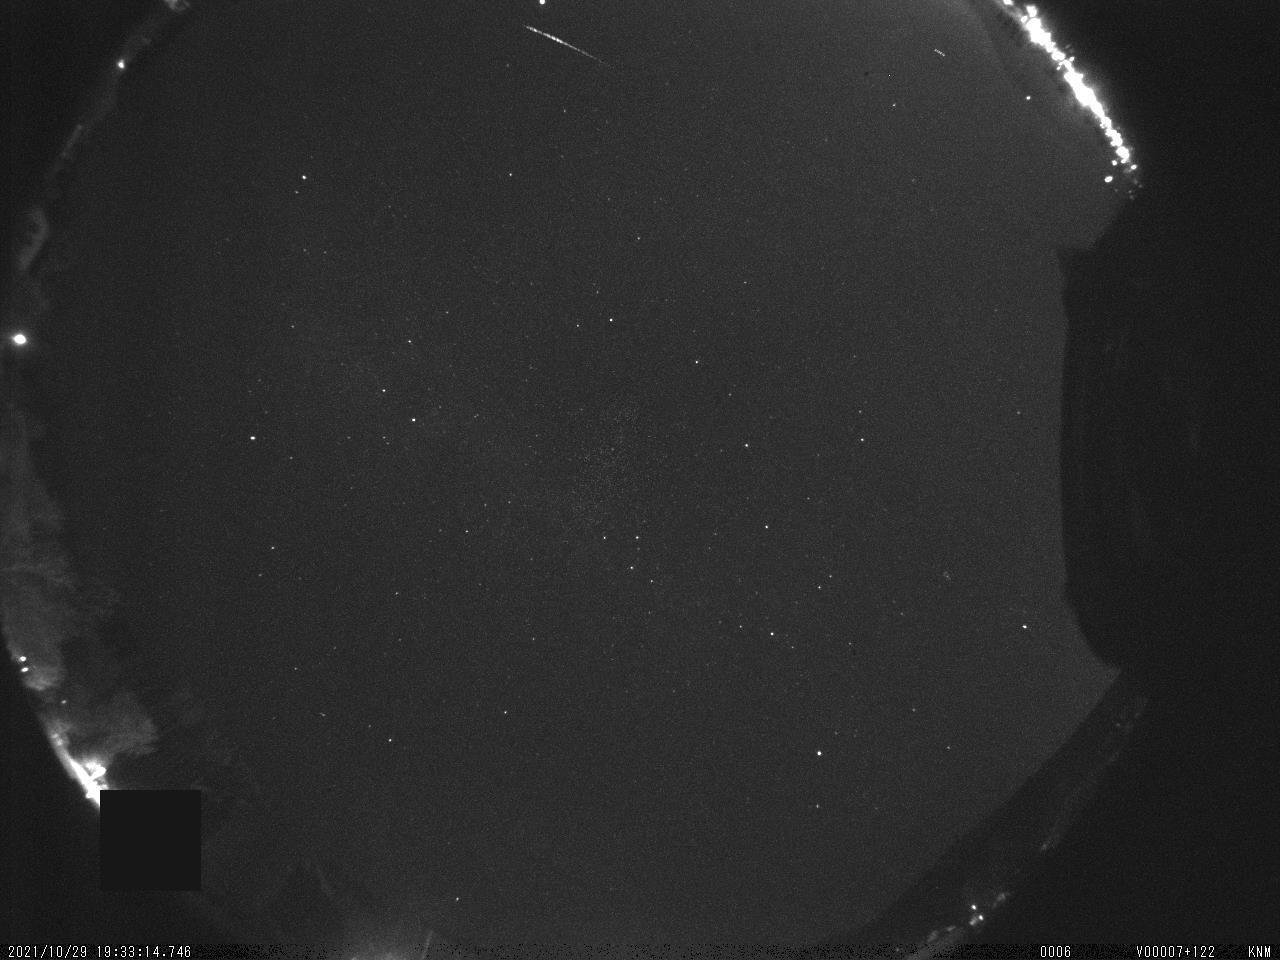Meteor: (520, 21, 612, 71)
